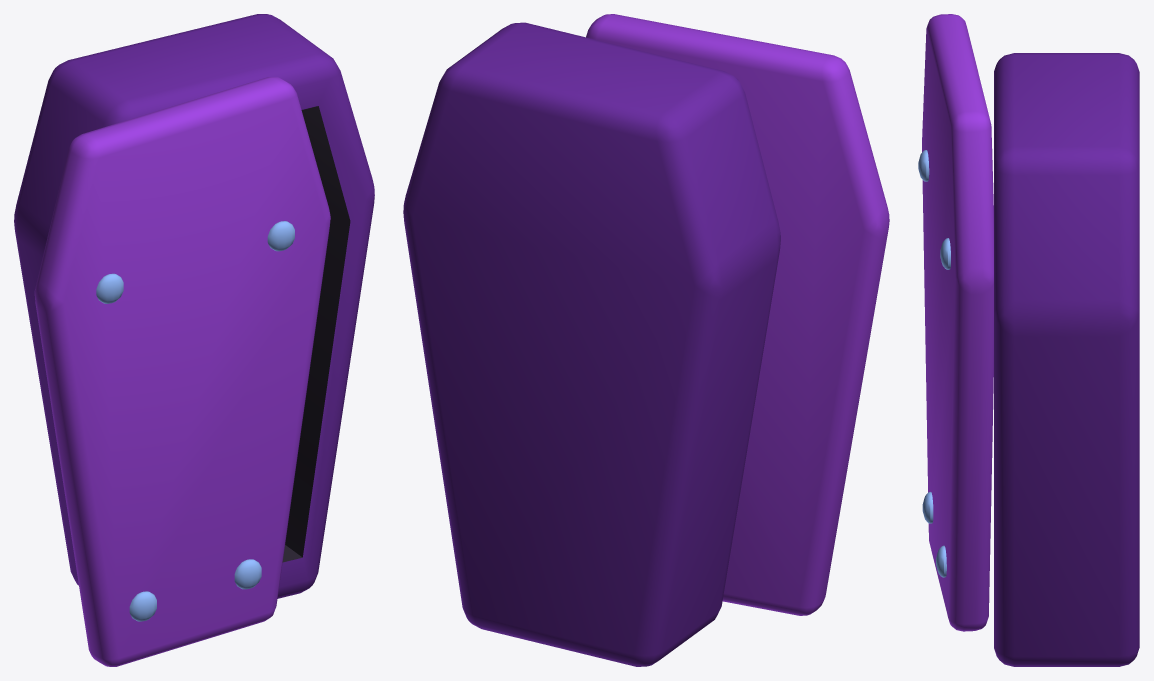
File: Coffin.fbx
3 renders of one model, left to right at view 1: azimuth 30°, elevation 25°; view 2: azimuth 150°, elevation 25°; view 3: azimuth 270°, elevation 25°, orthographic. The views are drawn at different scales.
Visible parts, largest first — view 1: Coffin; view 2: Coffin; view 3: Coffin.
Boxes of the visible parts, x1,y1,x2,y2 form: Coffin: [14, 14, 374, 666]; Coffin: [403, 14, 889, 666]; Coffin: [918, 14, 1139, 666].
Bounding box in the file's own units: 144 × 202 × 75.9.
1 material, 1 textured.
